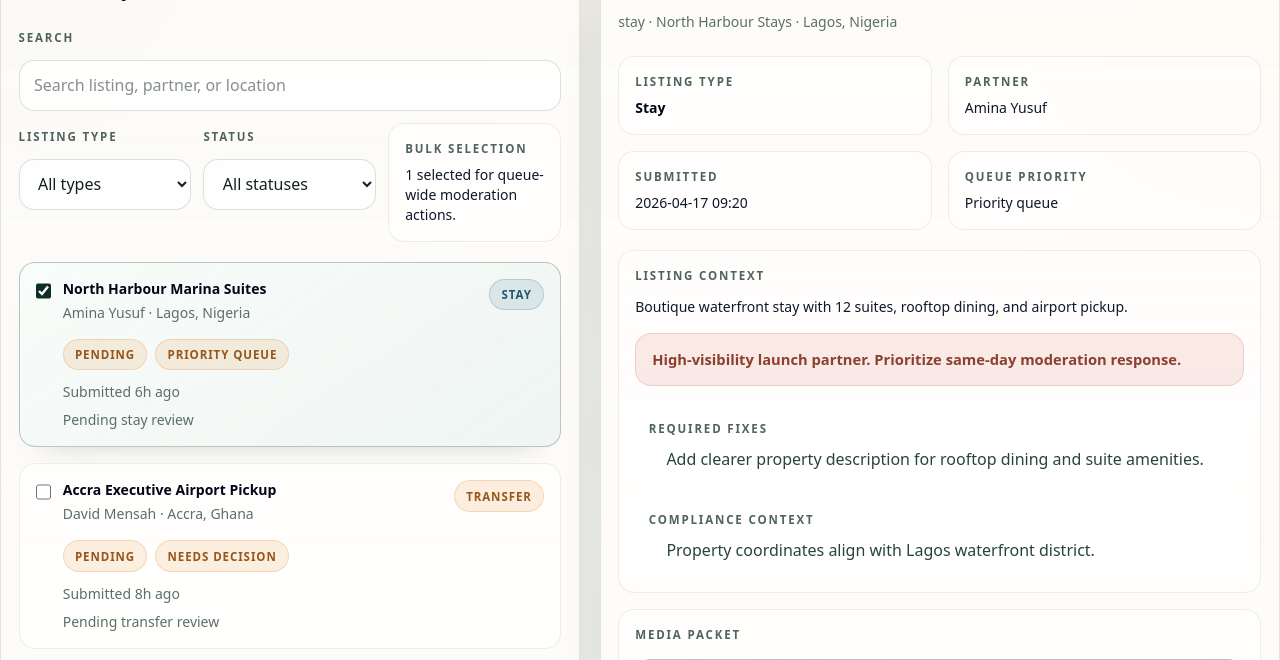
Test: ListingModerationWorkspace › disables invalid bulk actions for mixed moderation states
The image size is (1280, 660).
Type "River Lodge" into the field with placeholder "Search listing, partner, or location" at (290, 85), box [19,60,561,111]
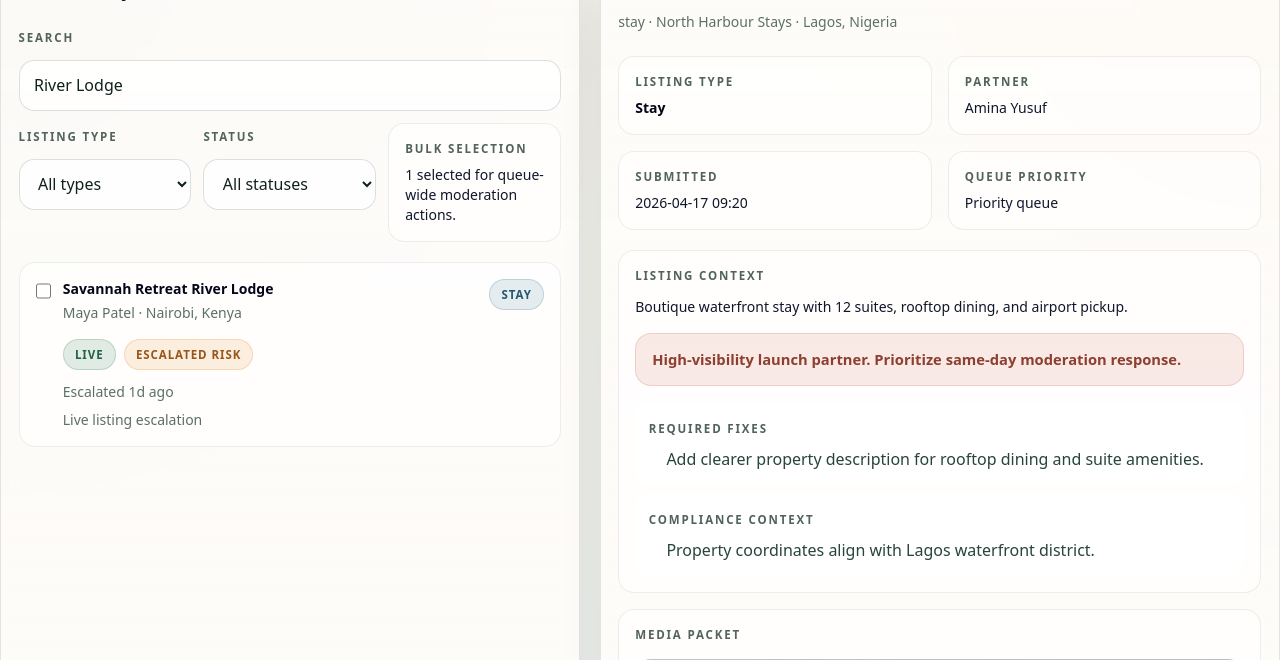
Click the checkbox named "Select Savannah Retreat River Lodge" at (43, 291), box [36,283,51,299]
(page scrolled)
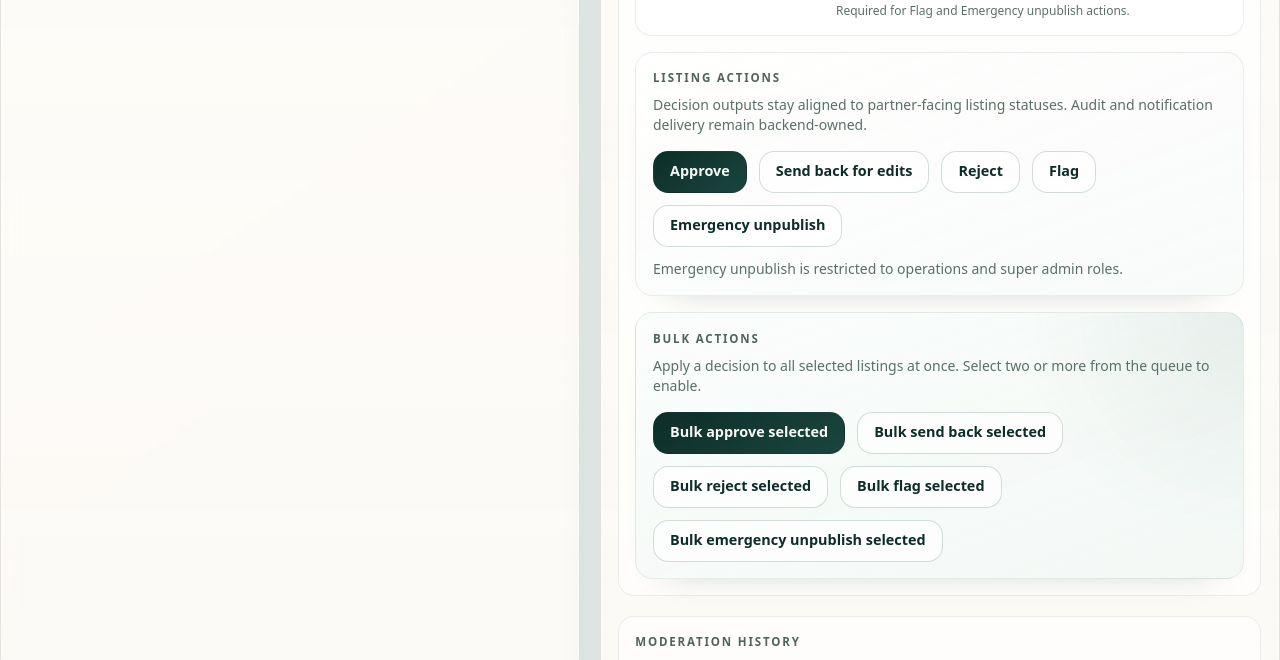
Check: the button "Bulk approve selected" is disabled, box [653,412,845,454]
Check: the button "Bulk flag selected" is enabled, box [840,466,1002,508]
